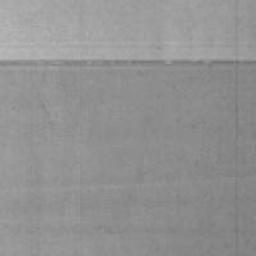Welding line: (0, 58, 256, 68)
